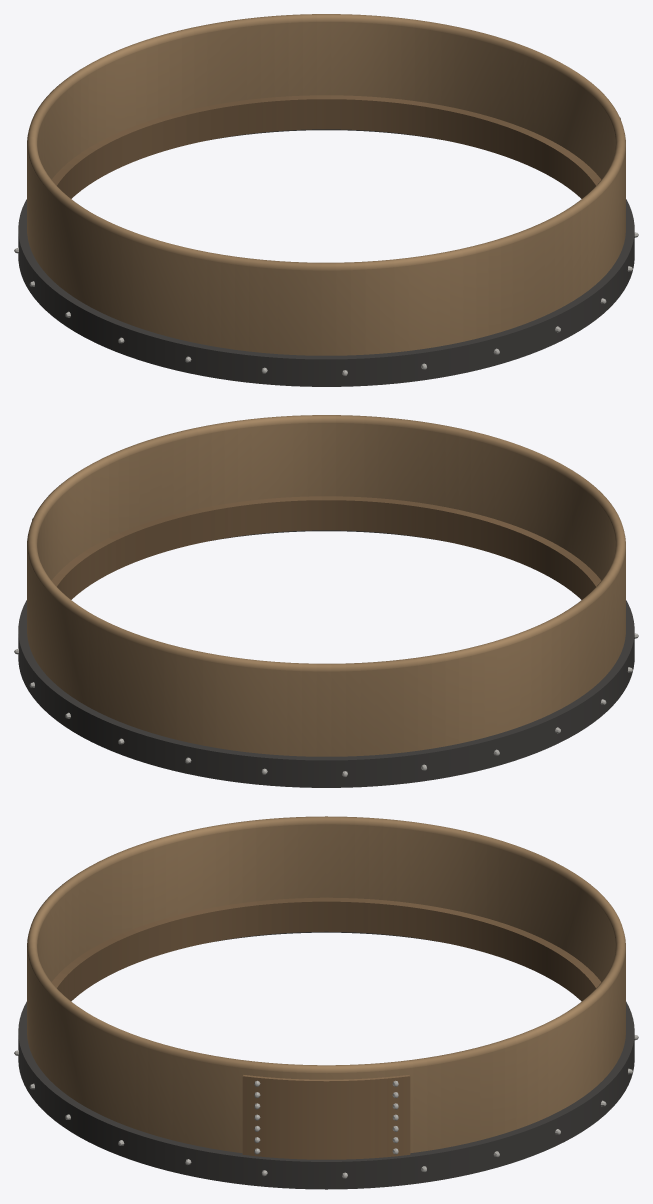
File: sieve.glb
3 renders of one model, top to bottom at view 1: azimuth 30°, elevation 25°; view 2: azimuth 150°, elevation 25°; view 3: azimuth 270°, elevation 25°, orthographic.
Parts seen in each view (by area): view 1: Sieve; view 2: Sieve; view 3: Sieve.
Part boxes in pixels (<box>): Sieve: <box>14,14,638,386</box>; Sieve: <box>14,415,638,787</box>; Sieve: <box>14,816,638,1189</box>.
Bounding box in the file's own units: 2.16 × 0.449 × 2.16.
